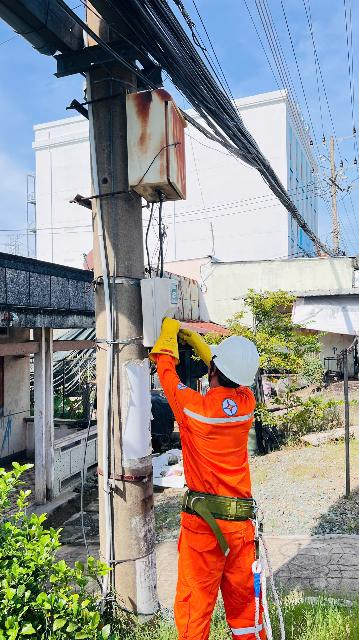gloves: (179, 322, 227, 367), (152, 308, 184, 367)
harness: (175, 478, 261, 529)
helmet: (193, 333, 292, 387)
